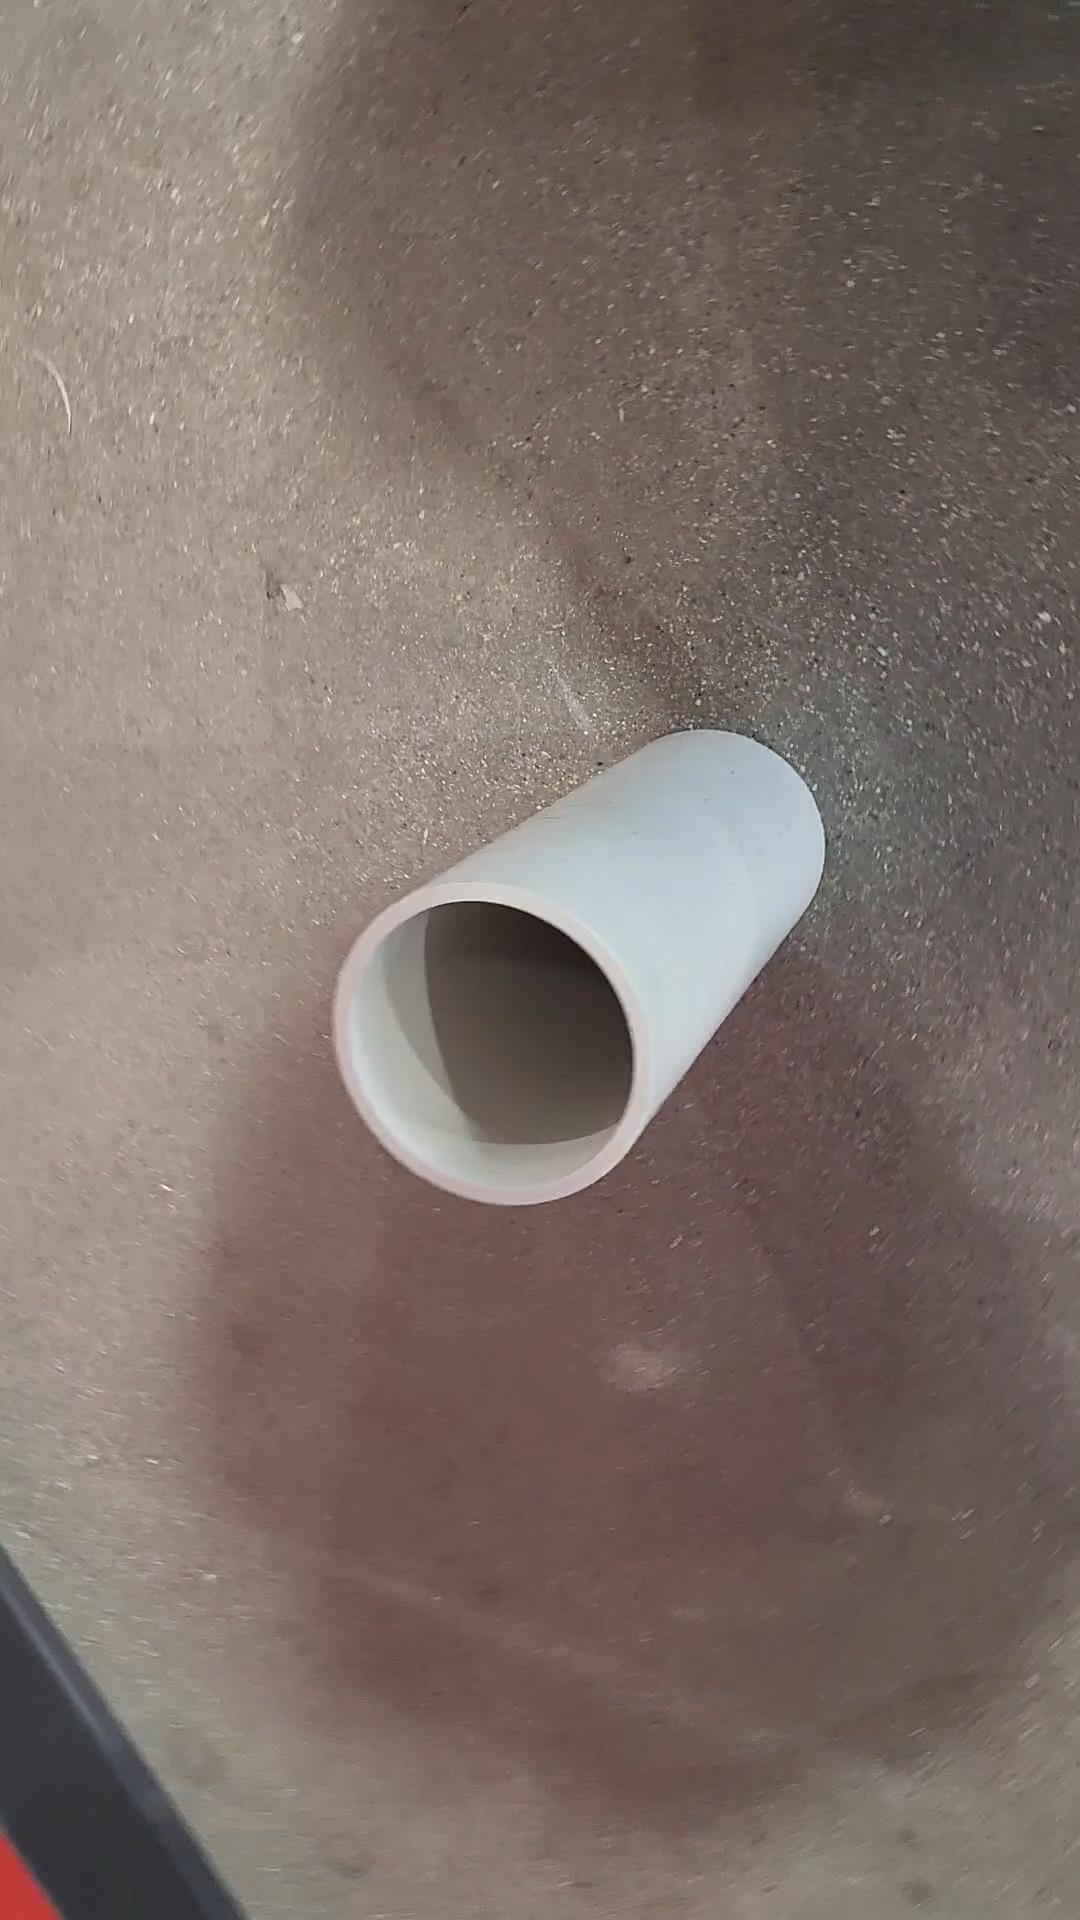coral: (338, 731, 828, 1203)
